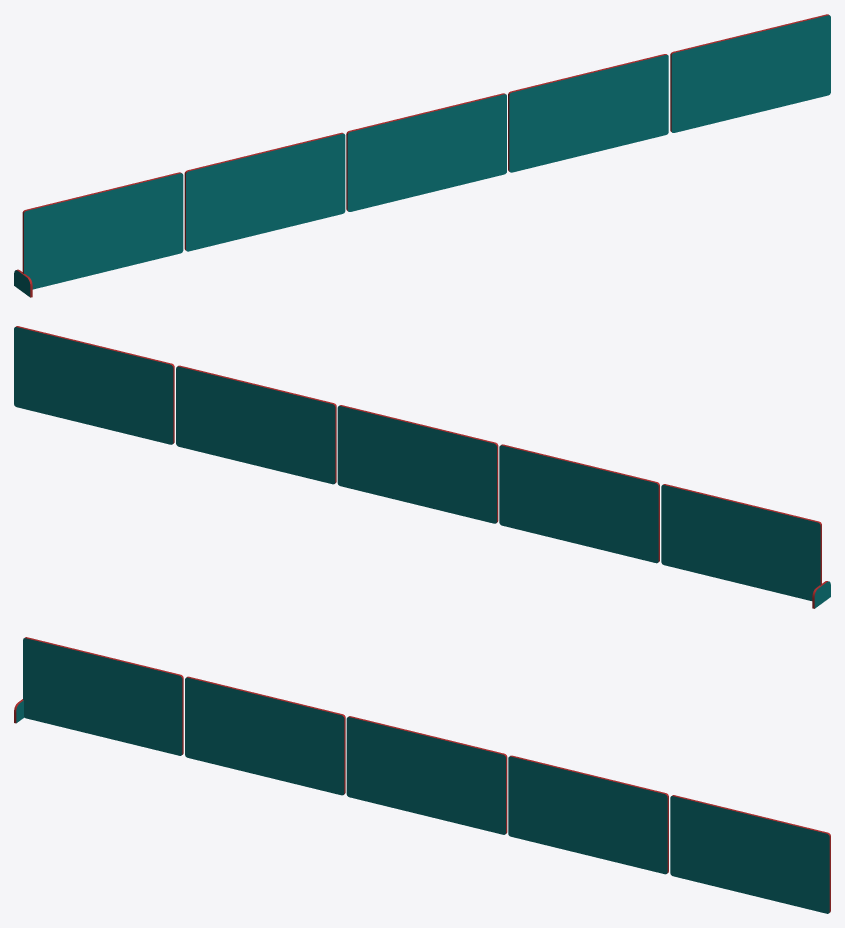
The model's file is SM_Shelf_Divider_Transparent_01.fbx.
3 renders of one model, top to bottom at view 1: azimuth 30°, elevation 25°; view 2: azimuth 150°, elevation 25°; view 3: azimuth 330°, elevation 25°, orthographic.
Visible parts, largest first — view 1: SM_Shelf_Divider_Transparent_01; view 2: SM_Shelf_Divider_Transparent_01; view 3: SM_Shelf_Divider_Transparent_01.
Boxes of the visible parts, x1=… form: SM_Shelf_Divider_Transparent_01: x1=14, y1=14, x2=830, y2=297; SM_Shelf_Divider_Transparent_01: x1=14, y1=326, x2=830, y2=608; SM_Shelf_Divider_Transparent_01: x1=14, y1=637, x2=830, y2=913.
Bounding box in the file's own units: 52.74 × 5 × 1.86.
